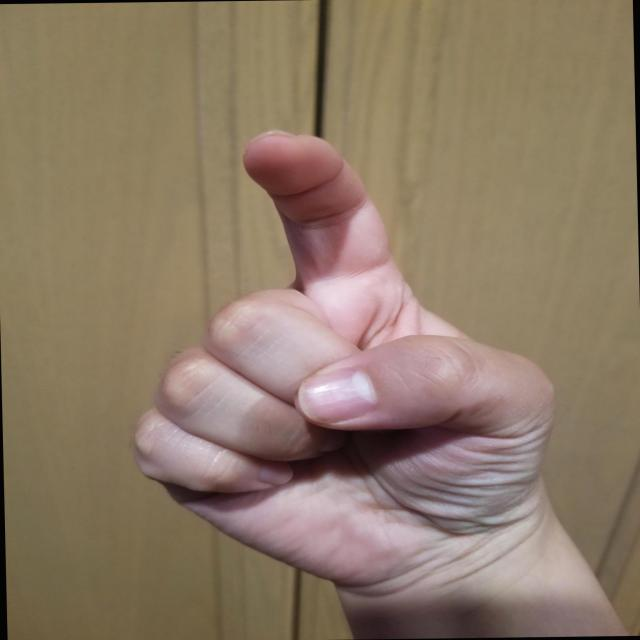X: (116, 120, 570, 599)
